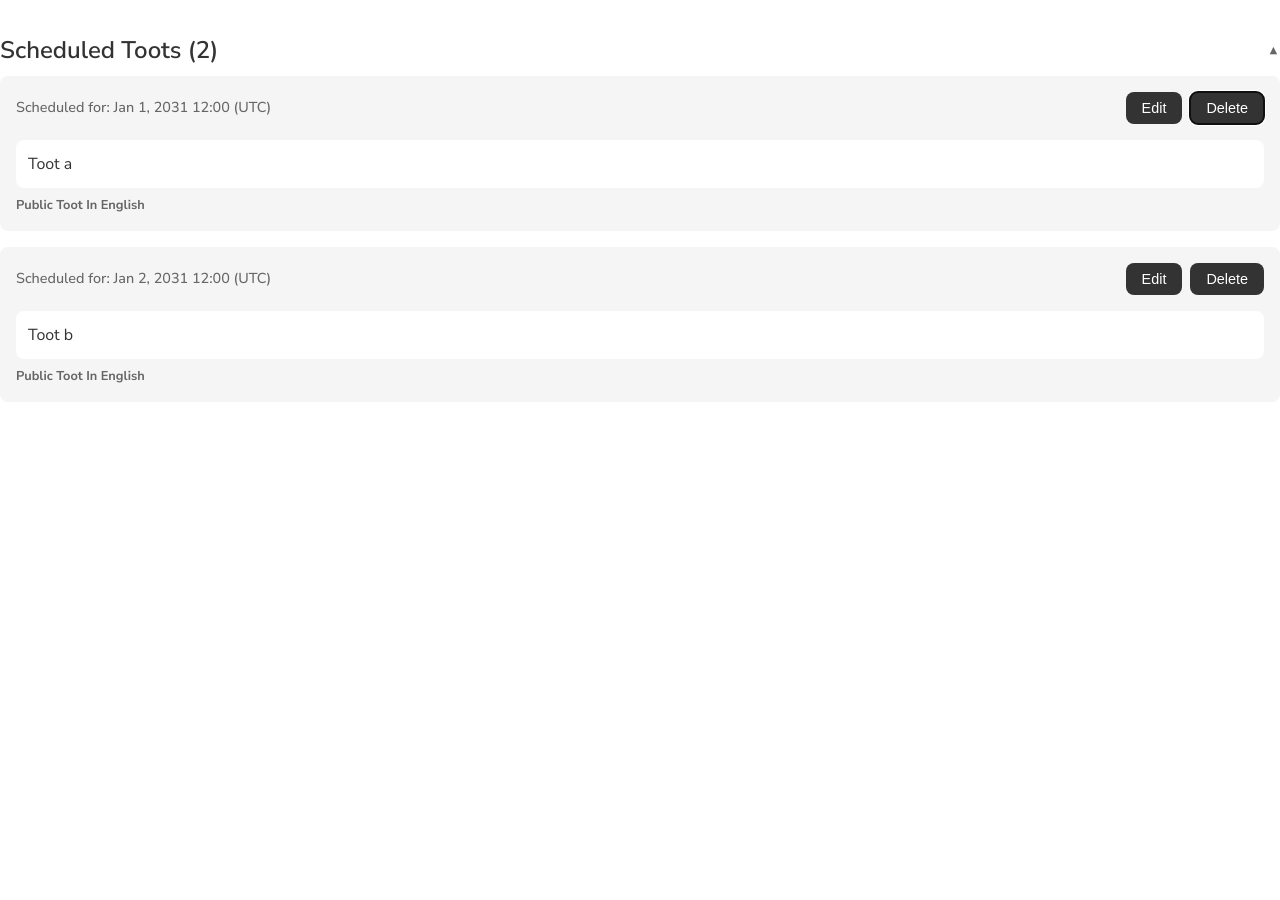
Test: ScheduledToots › with two toots › keeps every toot and leaves focus on the Delete button when the deletion fails
Click the button with class "delete-button" in the row of "Scheduled for: Jan 1, 2031 12:00 (UTC)": [1227, 108] box [1190, 92, 1264, 124]
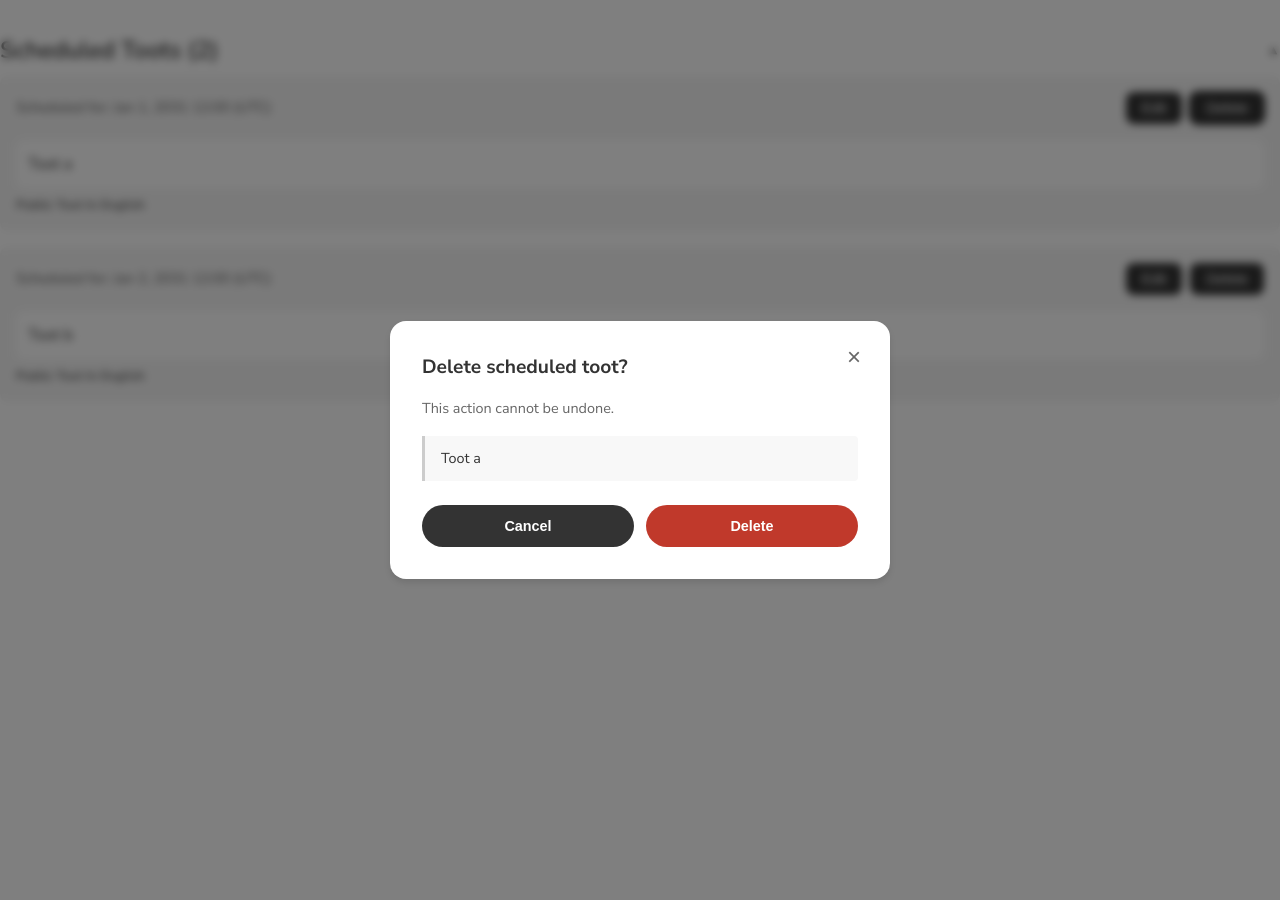
Click the button with class "btn-delete": [752, 526] box [646, 505, 858, 547]
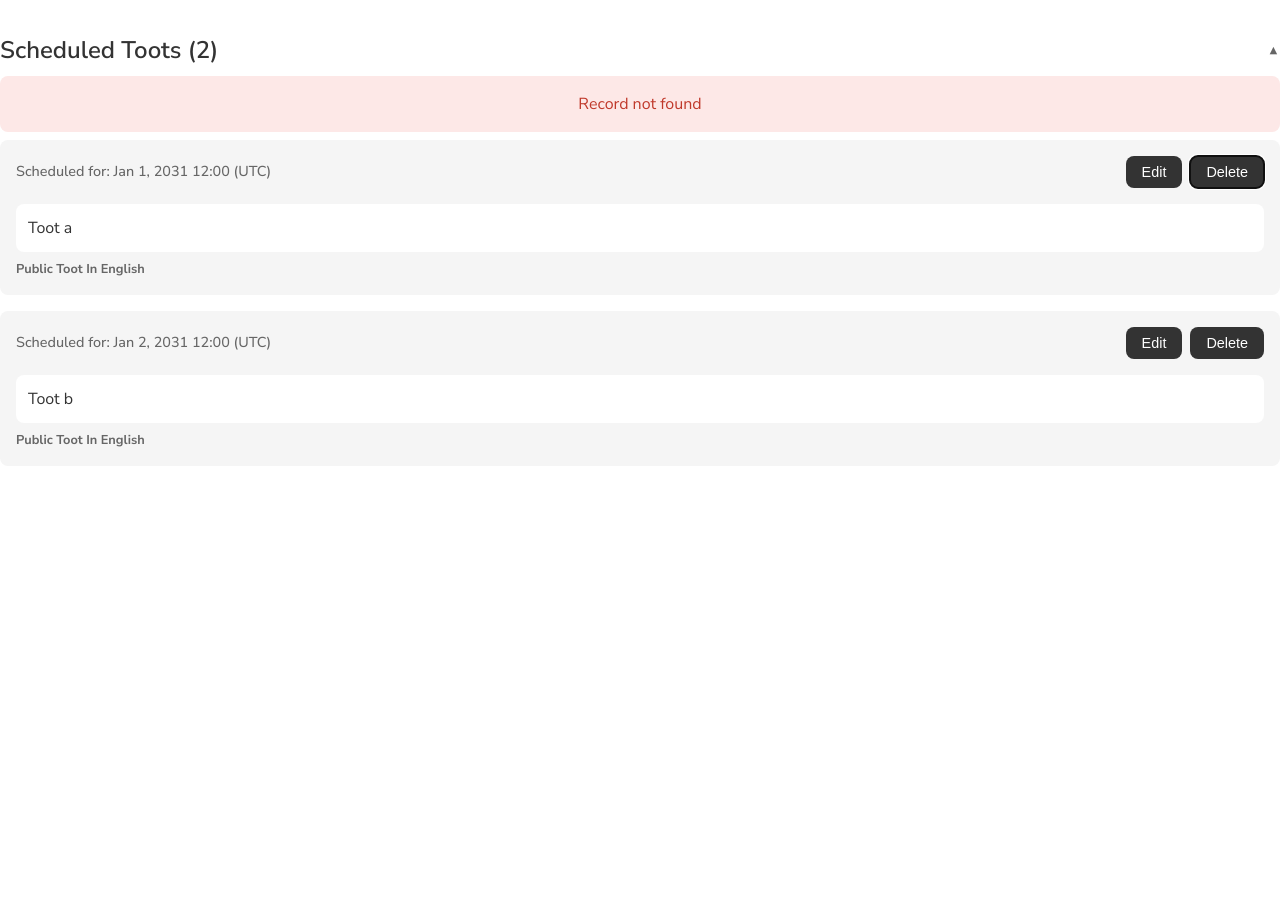
Expected: the number of elements with class "toot-card" is 2, [0, 140, 1279, 295]; [0, 311, 1279, 466]
Expected: the message "Record not found" is shown, [0, 76, 1279, 132]
